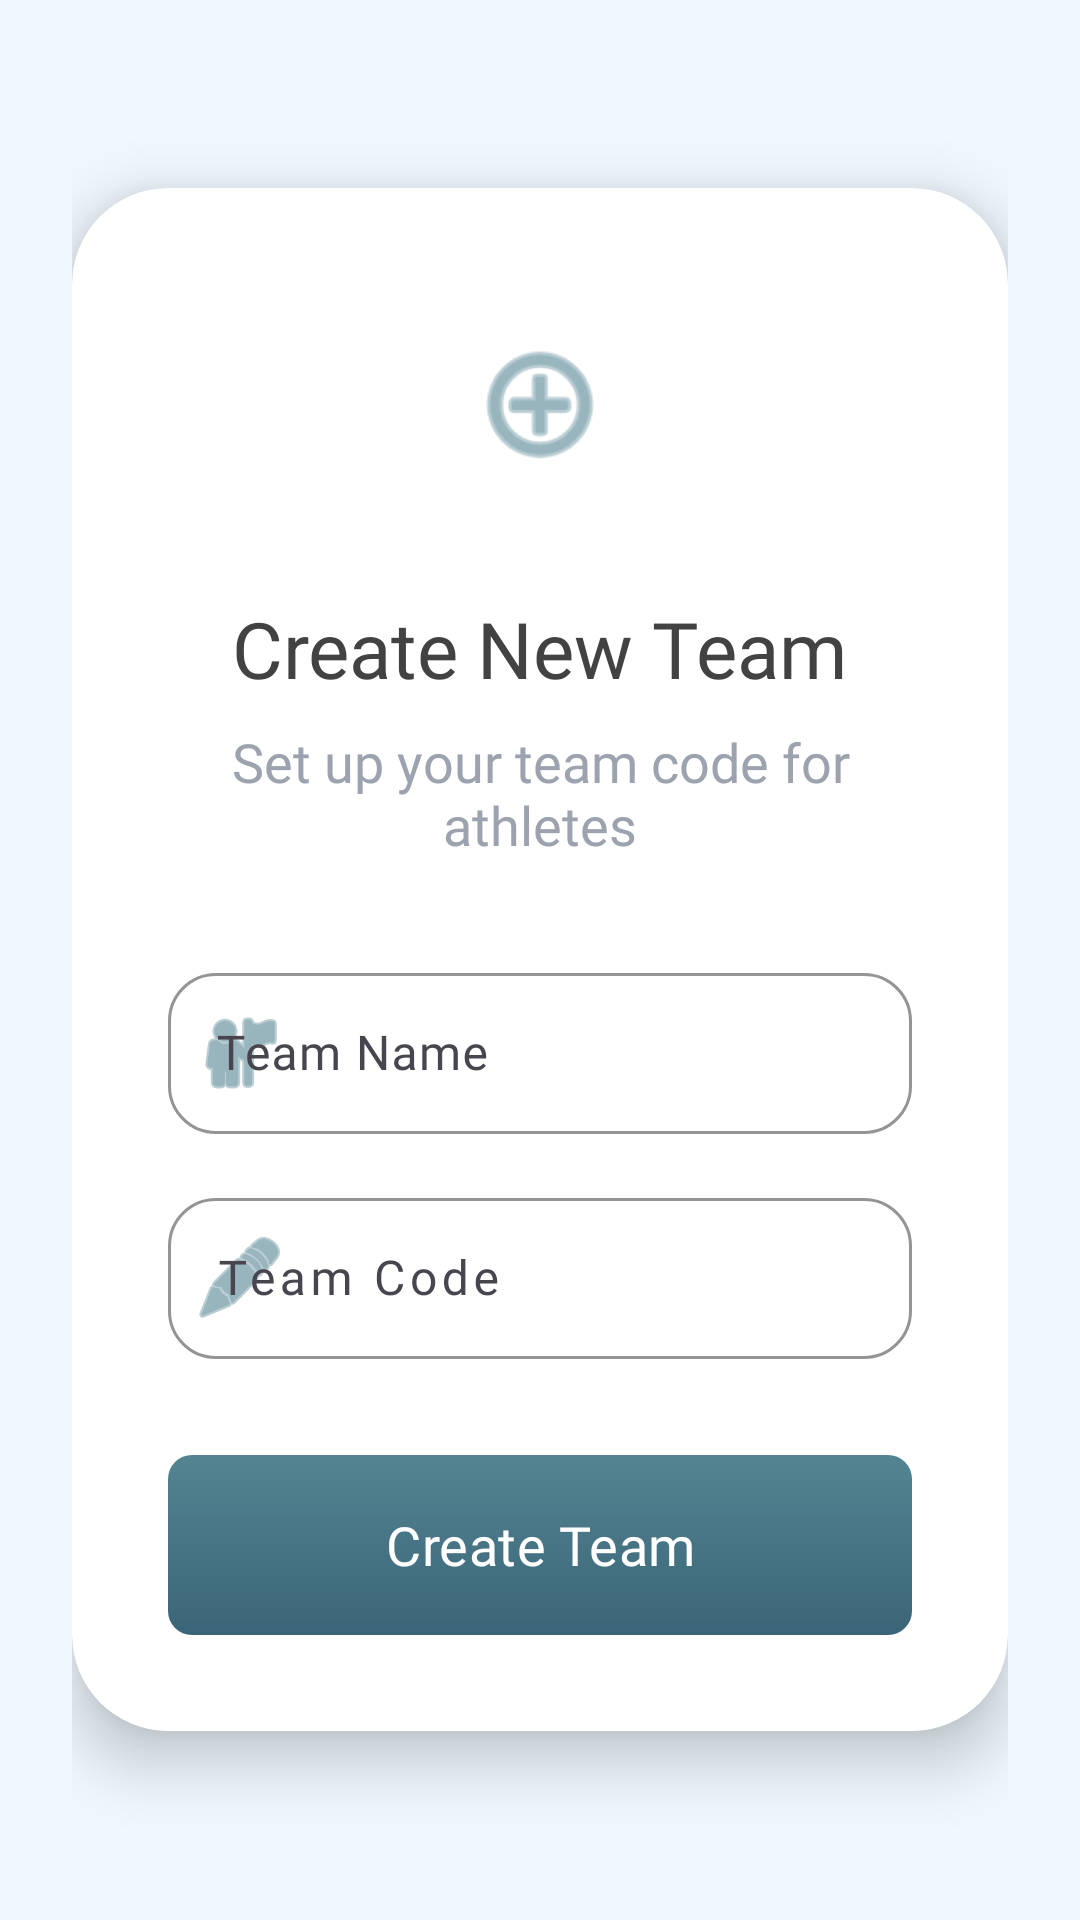

Named icons in this screenshot (1080px×1920px) and their centers, (x=x, y=y):
add: (x=540, y=404)
